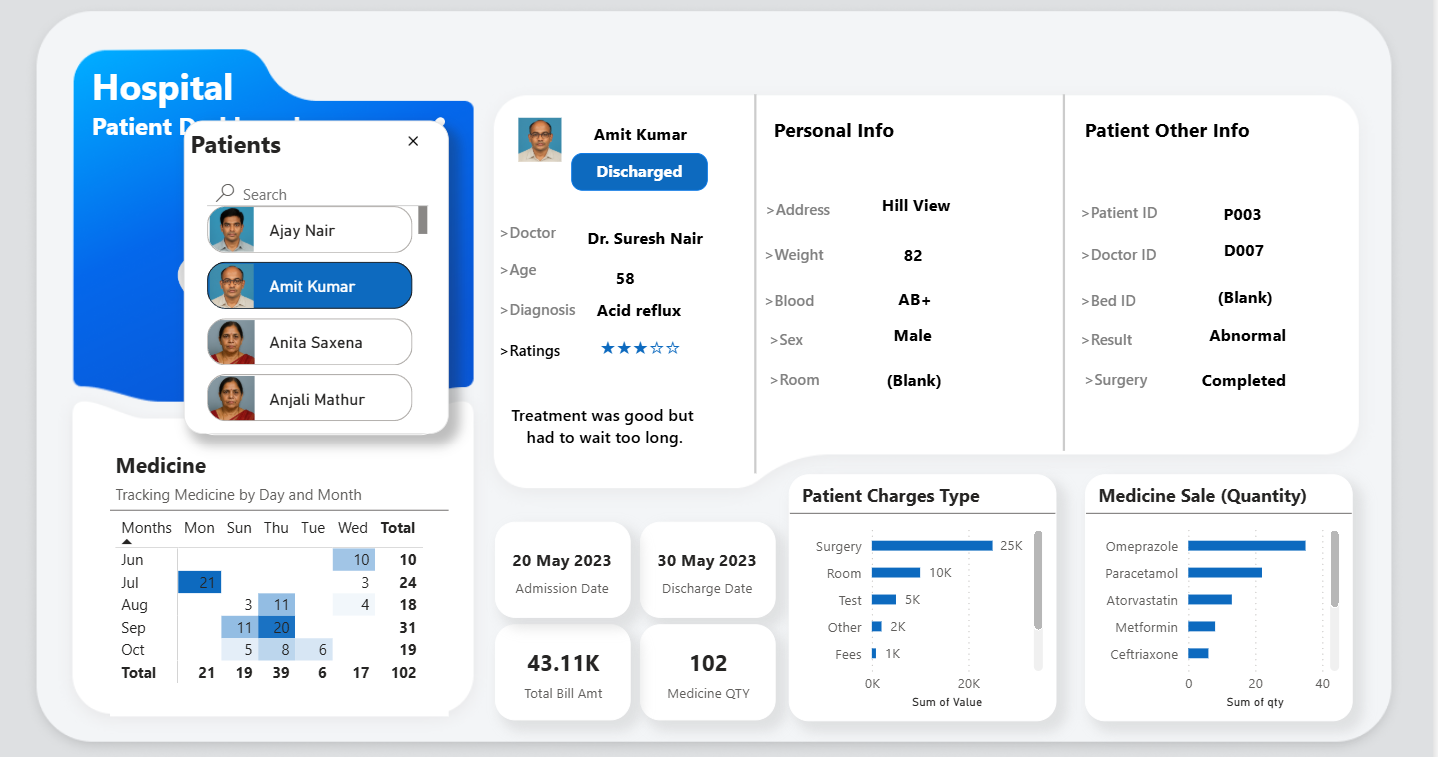

Layout of this report page (visuals, bound fields, positions):
{"tool":"powerbi","page":{"name":"Patient","canvas":[1280,720],"ordinal":0},"visuals":[{"type":"shape","title":"Patients","box":[162.6,129.4,252.1,386.1],"z":0,"group":"g1"},{"type":"pivotTable","title":"Medicine","fields":{"Values":["Sum(medicine_patient.qty)"],"Columns":["Calendar.Day"],"Rows":["Calendar.Months"]},"box":[102.1,425.5,301.3,236.6],"z":0},{"type":"group","id":"g1","title":"Patient Slicer","box":[162.6,129.4,252.1,386.1],"z":500,"group":"g2"},{"type":"image","box":[366.4,137.9,29.3,32.8],"z":1000,"group":"g1"},{"type":"advancedSlicerVisual","fields":{"Values":["patient_info.patient_name"]},"box":[179.5,170.4,218.4,345],"z":1000,"group":"g2"},{"type":"shape","box":[574.3,488.6,120.6,85.7],"z":1000},{"type":"shape","box":[574.3,580.3,120.6,85.7],"z":2000},{"type":"shape","box":[445.2,580.3,120.6,85.7],"z":3000},{"type":"shape","box":[445.2,488.6,120.6,85.7],"z":4000},{"type":"image","box":[102.8,123.1,279.9,279.9],"z":5000},{"type":"textbox","box":[81.3,73.4,321.9,98.4],"z":6000},{"type":"image","box":[350,123.4,64.1,48.4],"z":7000},{"type":"clusteredBarChart","title":"Medicine Sale (Quantity)","fields":{"Y":["Sum(medicine_patient.qty)"],"Category":["medical_stock_info.name"]},"box":[970.2,446,238.3,220],"z":10000},{"type":"clusteredBarChart","title":"Patient Charges Type","fields":{"Category":["Bills.Charge_Type"],"Y":["Sum(Bills.Value)"]},"box":[706.4,446,238.3,220],"z":11000},{"type":"card","fields":{"Values":["_Measures.Total_Bill_Amt"]},"box":[456,588.7,100.1,70],"z":12000},{"type":"card","fields":{"Values":["_Measures.Total_Med_Sale_QTY"]},"box":[585.1,588.7,100.1,70],"z":13000},{"type":"card","fields":{"Values":["Min(patient_info.patient_admission_date)"]},"box":[454.8,497.1,100.1,70],"z":14000},{"type":"card","fields":{"Values":["Min(patient_info.patient_discharge_date)"]},"box":[583.9,497.1,100.1,70],"z":15000},{"type":"cardVisual","fields":{"Data":["Min(patient_info.patient_Img)"]},"box":[445.2,111,84.5,78.4],"z":16000},{"type":"card","fields":{"Values":["Min(patient_info.patient_name)"]},"box":[517.6,130.3,114.6,30.2],"z":17000},{"type":"card","fields":{"Values":["Min(patient_info.patient_status)"]},"box":[512.7,160.5,121.9,33.8],"z":18000},{"type":"shape","box":[445.6,206.1,74.5,49.7],"z":19000},{"type":"shape","box":[445.6,238.3,74.5,49.7],"z":20000},{"type":"shape","box":[445.6,274.3,80.7,49.7],"z":21000},{"type":"card","fields":{"Values":["Min(patient_info.doctor_name)"]},"box":[505.2,217.2,147.7,42.2],"z":22000},{"type":"card","fields":{"Values":["Sum(patient_info.patient_age)"]},"box":[487.8,253.2,147.7,42.2],"z":23000},{"type":"card","fields":{"Values":["Min(appointment.diagnosis)"]},"box":[500.2,281.8,147.7,42.2],"z":24000},{"type":"card","fields":{"Values":["_Measures.Sum of satisfaction_rating star rating"]},"box":[520.1,315.3,110.5,39.7],"z":25000},{"type":"shape","box":[445.6,310.3,74.5,49.7],"z":26000},{"type":"card","fields":{"Values":["Min(patient_info.satisfaction_feedback)"]},"box":[446.9,361.2,193.6,84.4],"z":27000},{"type":"shape","box":[669.1,108,16.1,337.6],"z":28000},{"type":"shape","box":[944.6,108,13.7,317.8],"z":29000},{"type":"shape","box":[682,185.3,74.5,49.7],"z":30000},{"type":"shape","box":[681.5,224.7,74.5,49.7],"z":31000},{"type":"shape","box":[681.5,265.6,80.7,49.7],"z":32000},{"type":"card","fields":{"Values":["Min(patient_info.patient_address)"]},"box":[744.8,188.7,147.7,42.2],"z":33000},{"type":"card","fields":{"Values":["Sum(patient_info.patient_weight)"]},"box":[765.9,232.1,104.3,42.2],"z":34000},{"type":"card","fields":{"Values":["Min(patient_info.patient_blood_group)"]},"box":[746,271.8,147.7,42.2],"z":35000},{"type":"shape","box":[963.2,188.7,80.7,49.7],"z":36000},{"type":"shape","box":[963.2,224.7,80.7,49.7],"z":37000},{"type":"shape","box":[963.2,265.6,80.7,49.7],"z":38000},{"type":"card","fields":{"Values":["Min(patient_info.patient_id)"]},"box":[1037.7,196.1,147.7,42.2],"z":39000},{"type":"card","fields":{"Values":["Min(patient_tests.doctor_id)"]},"box":[1039,228.4,147.7,42.2],"z":40000},{"type":"card","fields":{"Values":["Min(patient_info.beds_bed_id)"]},"box":[1040.2,269.4,147.7,42.2],"z":41000},{"type":"shape","box":[685.2,300.4,74.5,49.7],"z":42000},{"type":"shape","box":[685.2,336.4,74.5,49.7],"z":43000},{"type":"card","fields":{"Values":["Min(patient_info.patient_gender)"]},"box":[743.5,304.1,147.7,42.2],"z":44000},{"type":"card","fields":{"Values":["Min(patient_info.room_floor)"]},"box":[753.5,343.8,130.3,42.2],"z":45000},{"type":"shape","box":[963.2,300.4,74.5,49.7],"z":46000},{"type":"shape","box":[965.7,336.4,74.5,49.7],"z":47000},{"type":"card","fields":{"Values":["Min(patient_tests.result)"]},"box":[1041.4,304.1,147.7,42.2],"z":48000},{"type":"card","fields":{"Values":["Min(patient_info.surgery_status)"]},"box":[1039,343.8,147.7,42.2],"z":49000},{"type":"shape","box":[690.2,115.4,115.4,45.9],"z":50000},{"type":"shape","box":[965.7,110.5,173.8,57.1],"z":51000},{"type":"group","id":"g2","title":"Patient Slicer","box":[162.6,129.4,252.9,386.8],"z":51500}]}

Visuals, with their boxes on the page's 1280x720 design canvas (x1, y1, x2, y2). These are canvas units, not pixel positions in the 1438x757 screenshot, which may show the page scaled, cropped or inside an application window:
"Patients" shape: <bbox>163, 129, 415, 516</bbox>
"Medicine" pivotTable: <bbox>102, 426, 403, 662</bbox>
"Patient Slicer" group: <bbox>163, 129, 415, 516</bbox>
image: <bbox>366, 138, 396, 171</bbox>
advancedSlicerVisual - patient_info.patient_name: <bbox>180, 170, 398, 515</bbox>
shape: <bbox>574, 489, 695, 574</bbox>
shape: <bbox>574, 580, 695, 666</bbox>
shape: <bbox>445, 580, 566, 666</bbox>
shape: <bbox>445, 489, 566, 574</bbox>
image: <bbox>103, 123, 383, 403</bbox>
textbox: <bbox>81, 73, 403, 172</bbox>
image: <bbox>350, 123, 414, 172</bbox>
"Medicine Sale (Quantity)" clusteredBarChart: <bbox>970, 446, 1208, 666</bbox>
"Patient Charges Type" clusteredBarChart: <bbox>706, 446, 945, 666</bbox>
card - _Measures.Total_Bill_Amt: <bbox>456, 589, 556, 659</bbox>
card - _Measures.Total_Med_Sale_QTY: <bbox>585, 589, 685, 659</bbox>
card - Min(patient_info.patient_admission_date): <bbox>455, 497, 555, 567</bbox>
card - Min(patient_info.patient_discharge_date): <bbox>584, 497, 684, 567</bbox>
cardVisual - Min(patient_info.patient_Img): <bbox>445, 111, 530, 189</bbox>
card - Min(patient_info.patient_name): <bbox>518, 130, 632, 160</bbox>
card - Min(patient_info.patient_status): <bbox>513, 160, 635, 194</bbox>
shape: <bbox>446, 206, 520, 256</bbox>
shape: <bbox>446, 238, 520, 288</bbox>
shape: <bbox>446, 274, 526, 324</bbox>
card - Min(patient_info.doctor_name): <bbox>505, 217, 653, 259</bbox>
card - Sum(patient_info.patient_age): <bbox>488, 253, 636, 295</bbox>
card - Min(appointment.diagnosis): <bbox>500, 282, 648, 324</bbox>
card - _Measures.Sum of satisfaction_rating star rating: <bbox>520, 315, 631, 355</bbox>
shape: <bbox>446, 310, 520, 360</bbox>
card - Min(patient_info.satisfaction_feedback): <bbox>447, 361, 640, 446</bbox>
shape: <bbox>669, 108, 685, 446</bbox>
shape: <bbox>945, 108, 958, 426</bbox>
shape: <bbox>682, 185, 756, 235</bbox>
shape: <bbox>682, 225, 756, 274</bbox>
shape: <bbox>682, 266, 762, 315</bbox>
card - Min(patient_info.patient_address): <bbox>745, 189, 892, 231</bbox>
card - Sum(patient_info.patient_weight): <bbox>766, 232, 870, 274</bbox>
card - Min(patient_info.patient_blood_group): <bbox>746, 272, 894, 314</bbox>
shape: <bbox>963, 189, 1044, 238</bbox>
shape: <bbox>963, 225, 1044, 274</bbox>
shape: <bbox>963, 266, 1044, 315</bbox>
card - Min(patient_info.patient_id): <bbox>1038, 196, 1185, 238</bbox>
card - Min(patient_tests.doctor_id): <bbox>1039, 228, 1187, 271</bbox>
card - Min(patient_info.beds_bed_id): <bbox>1040, 269, 1188, 312</bbox>
shape: <bbox>685, 300, 760, 350</bbox>
shape: <bbox>685, 336, 760, 386</bbox>
card - Min(patient_info.patient_gender): <bbox>744, 304, 891, 346</bbox>
card - Min(patient_info.room_floor): <bbox>754, 344, 884, 386</bbox>
shape: <bbox>963, 300, 1038, 350</bbox>
shape: <bbox>966, 336, 1040, 386</bbox>
card - Min(patient_tests.result): <bbox>1041, 304, 1189, 346</bbox>
card - Min(patient_info.surgery_status): <bbox>1039, 344, 1187, 386</bbox>
shape: <bbox>690, 115, 806, 161</bbox>
shape: <bbox>966, 110, 1140, 168</bbox>
"Patient Slicer" group: <bbox>163, 129, 416, 516</bbox>
